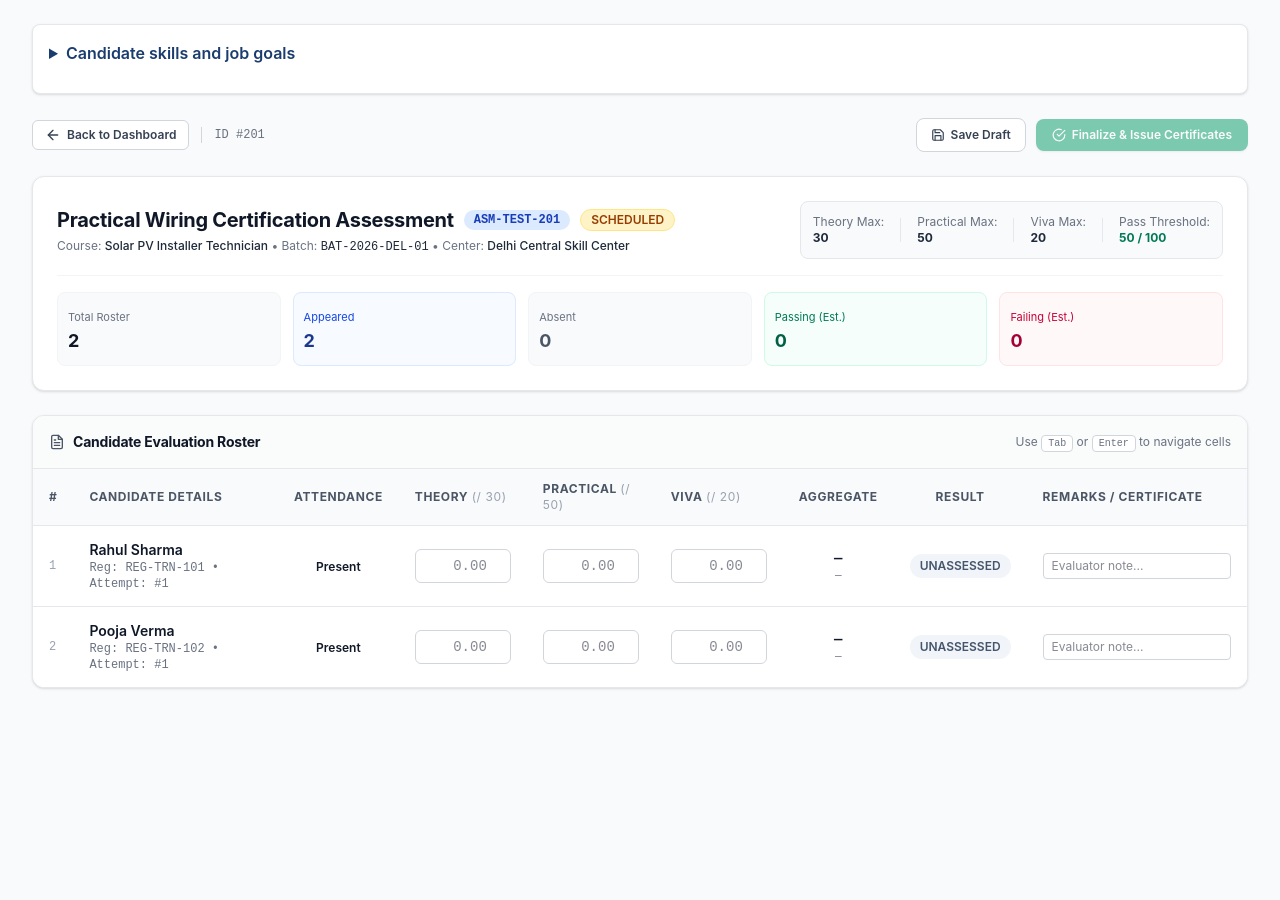
AssessorScoringPage Component › calculates total score, percentage, and updates outcome preview in real-time
The image size is (1280, 900).
Expected: the text "Rahul Sharma" is shown, left=89, top=541, right=183, bottom=558
Type "25.00" into the 1st number field with placeholder "0.00".
click(463, 566); type("25.00")  # box left=415, top=549, right=511, bottom=583
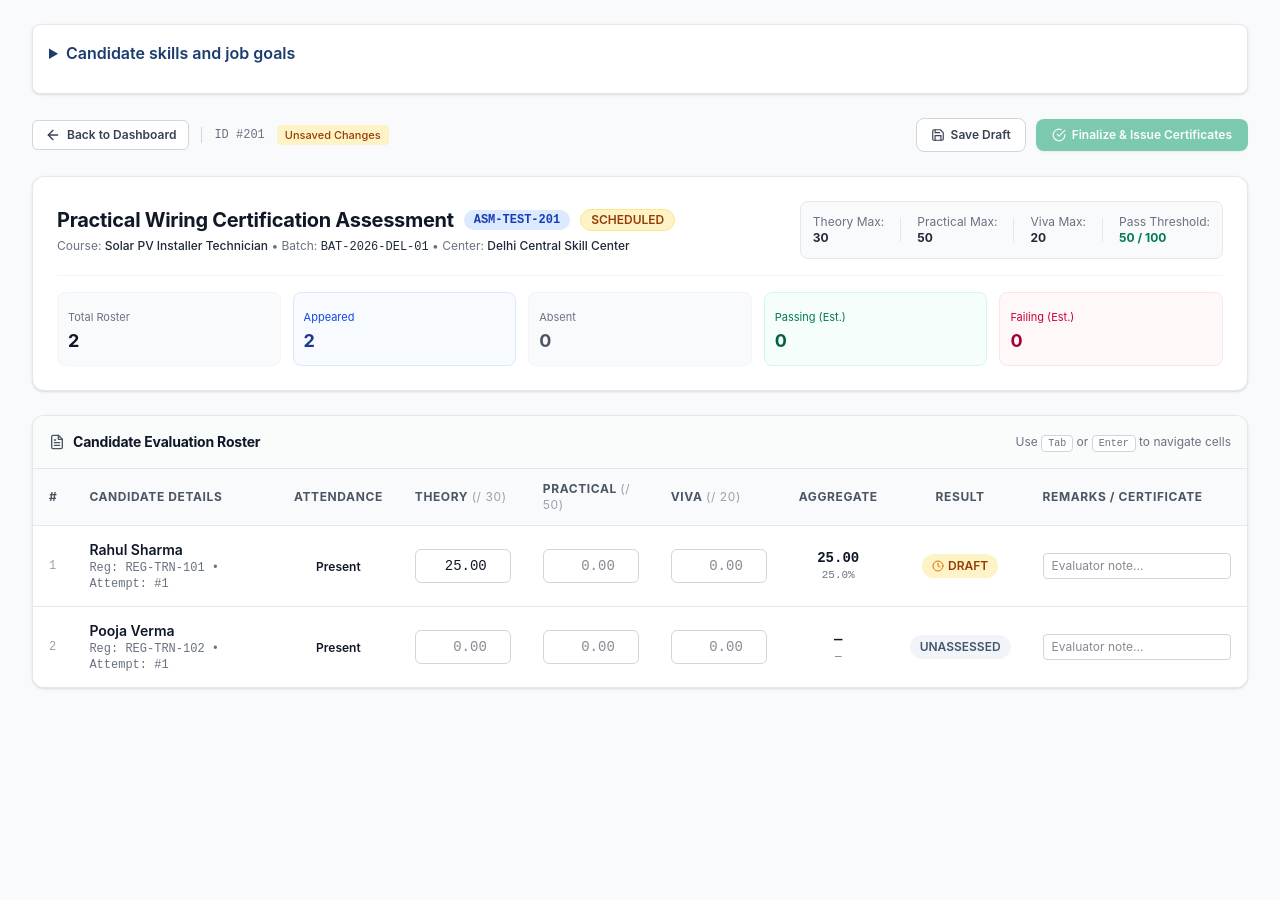
Type "45.00" into the 1st number field with placeholder "0.00".
click(591, 566); type("45.00")  # box left=543, top=549, right=639, bottom=583
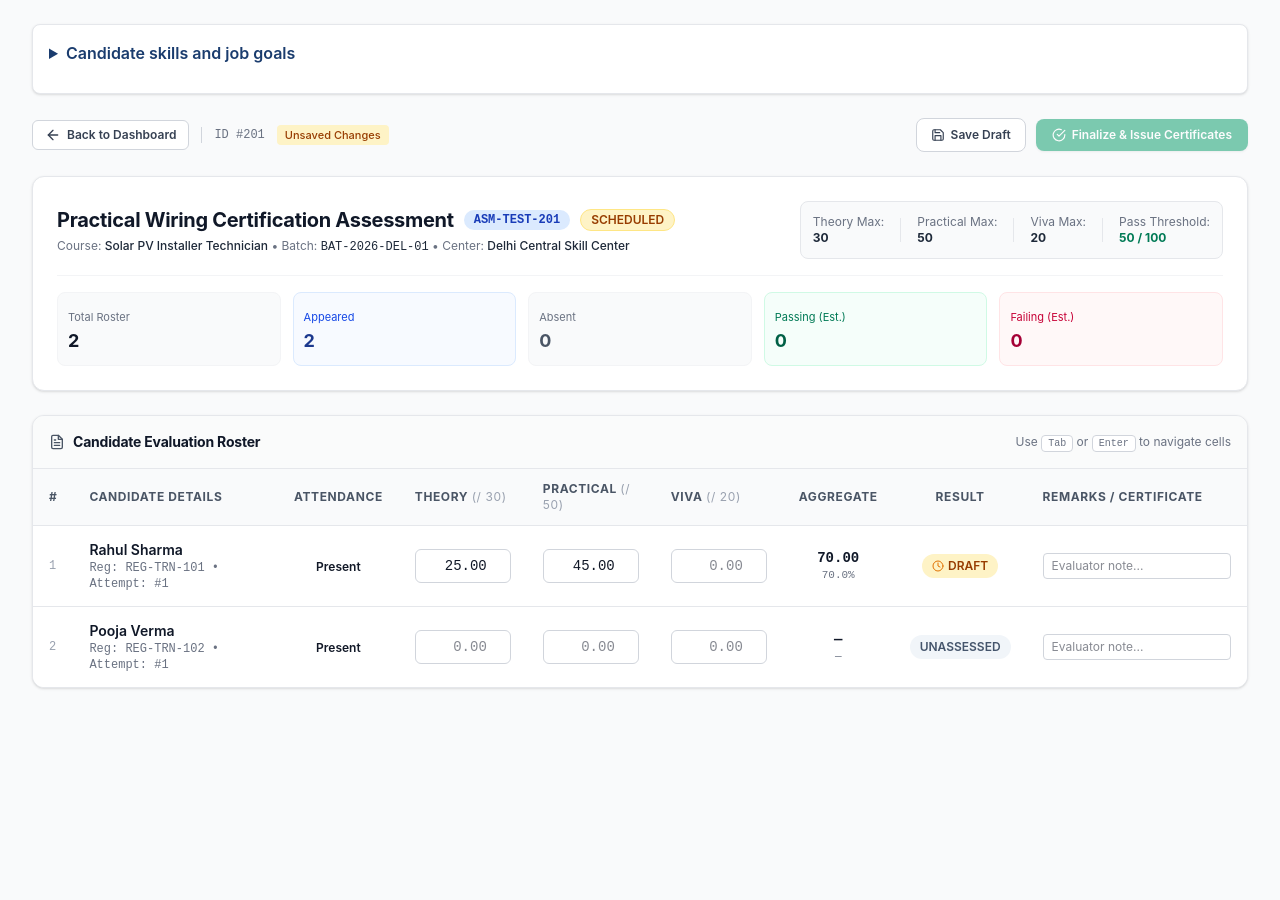
Type "15.00" into the number field with placeholder "0.00" in the row of "Rahul Sharma".
click(719, 566); type("15.00")  # box left=671, top=549, right=767, bottom=583
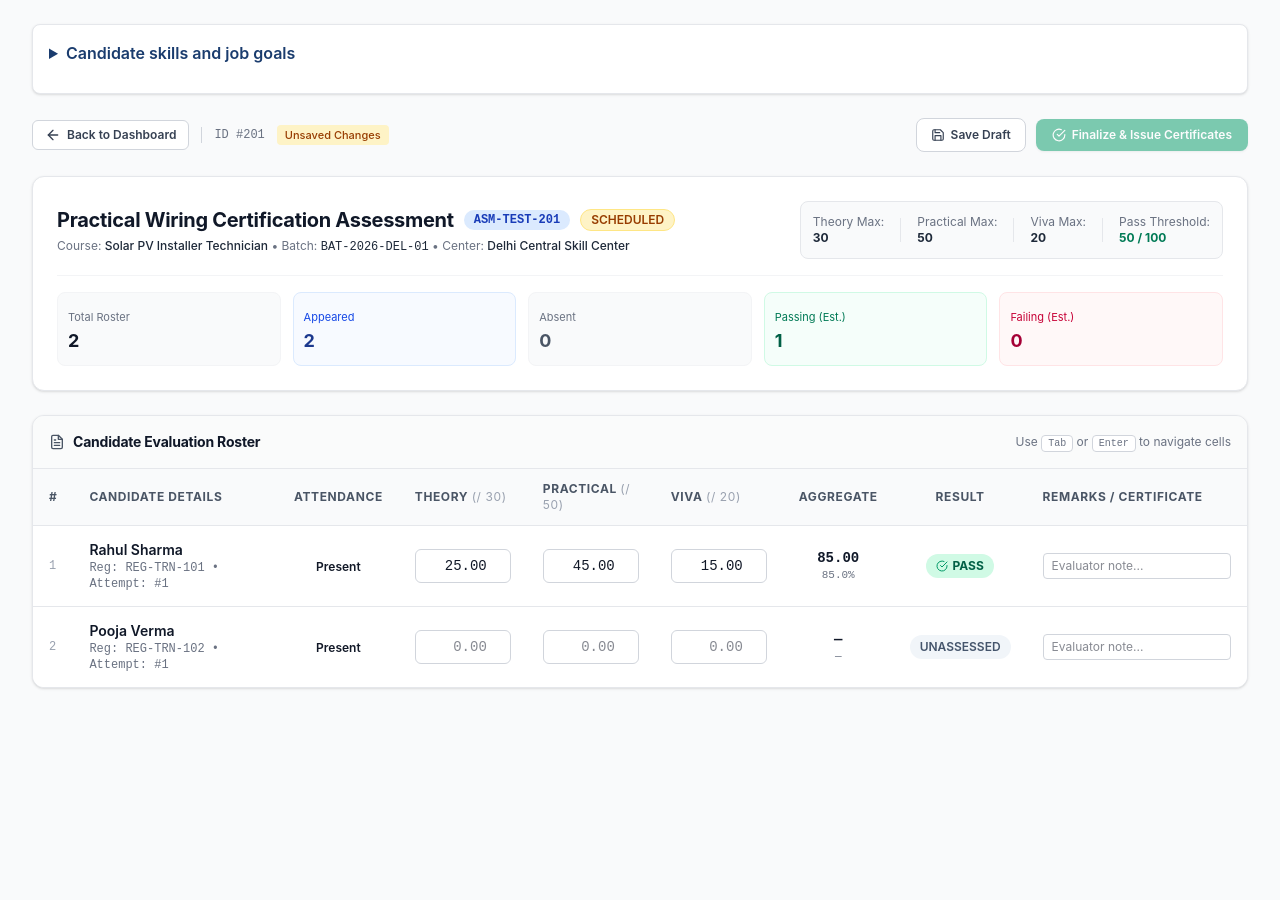
Expected: the text "85.00" is shown, left=817, top=550, right=859, bottom=566
Expected: the text "85.0%" is shown, left=822, top=569, right=855, bottom=581
Expected: the text "PASS" is shown, left=926, top=554, right=994, bottom=578
